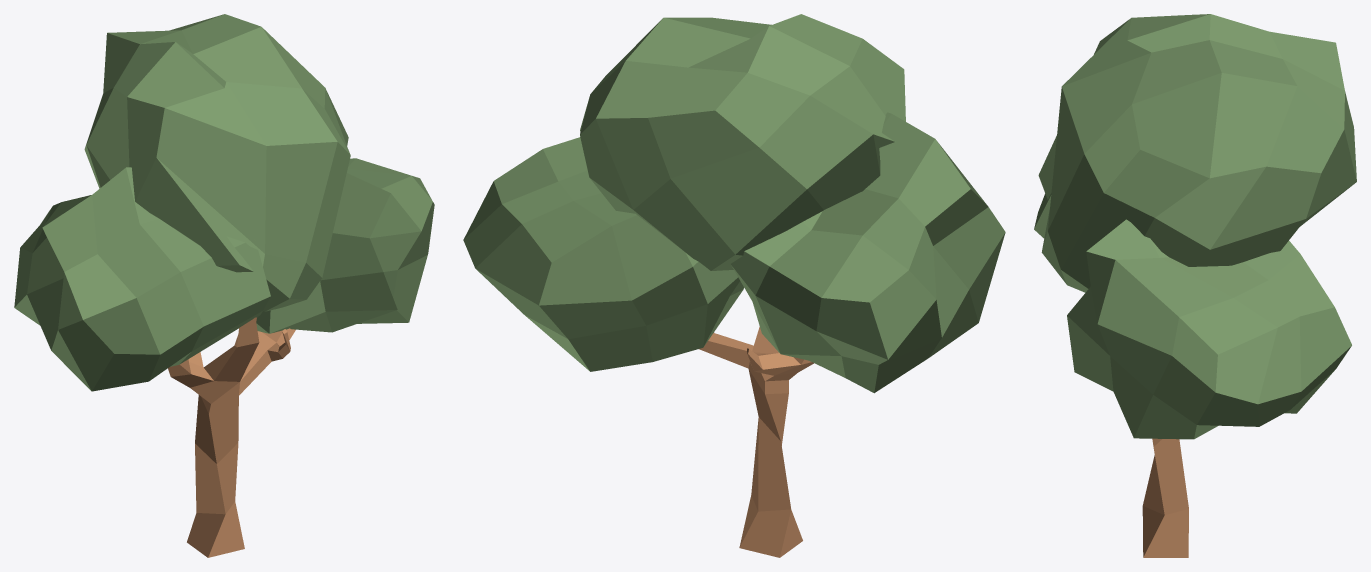
The model's file is ArbolT2.fbx.
3 renders of one model, left to right at view 1: azimuth 30°, elevation 25°; view 2: azimuth 150°, elevation 25°; view 3: azimuth 270°, elevation 25°, orthographic. The views are drawn at different scales.
Visible parts, largest first — view 1: Cube.002, Cube, Cube.001, Arbol01; view 2: Cube.002, Cube, Cube.001, Arbol01; view 3: Cube.002, Cube.001, Arbol01, Cube.
Part boxes in pixels (box(x1,y1,x2,y2)): Cube.002: box(84, 14, 350, 311); Cube: box(14, 167, 270, 391); Cube.001: box(256, 158, 434, 333); Arbol01: box(168, 317, 295, 557); Cube.002: box(580, 14, 905, 270); Cube: box(731, 112, 1005, 393); Cube.001: box(463, 137, 743, 371); Arbol01: box(699, 327, 813, 557); Cube.002: box(1038, 14, 1356, 292); Cube.001: box(1067, 219, 1351, 439); Arbol01: box(1142, 438, 1188, 557); Cube: box(1034, 193, 1051, 238).
Size of the model in its own units: 1542 by 1730 by 965.
